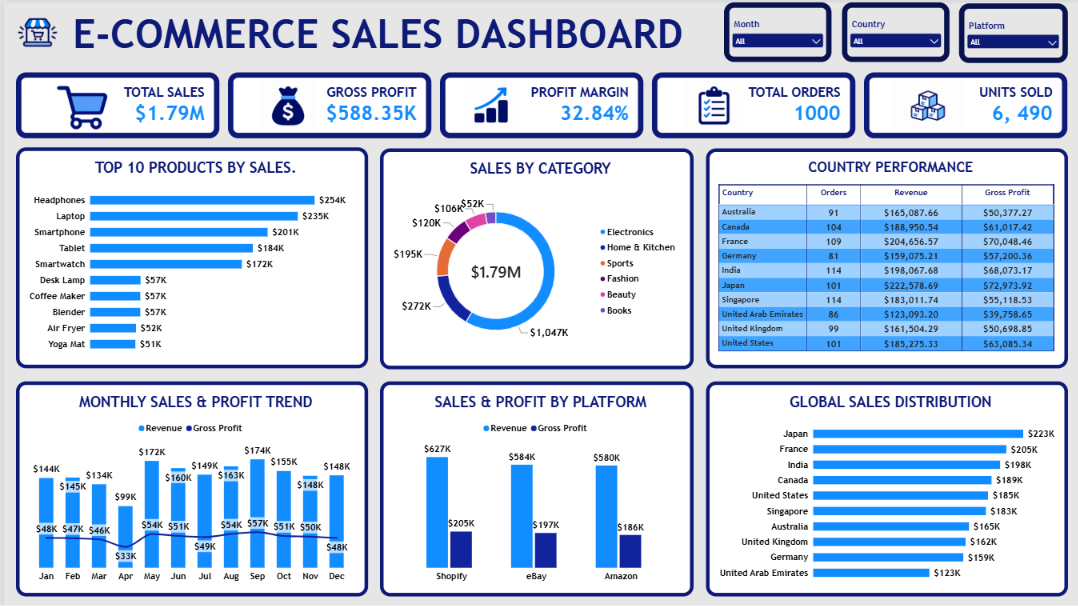

What the dashboard file says about the page in this screenshot:
{"tool":"powerbi","page":{"name":"Dashboard","canvas":[1920,1080],"ordinal":0},"visuals":[{"type":"textbox","box":[0,0,1919.2,105.8],"z":0},{"type":"cardVisual","fields":{"Data":["-Measures.Total Sales"]},"box":[21.2,125,363.5,117.3],"z":1000},{"type":"cardVisual","fields":{"Data":["-Measures.Gross Profit kpi"]},"box":[400,125,363.5,117.3],"z":2000},{"type":"cardVisual","fields":{"Data":["-Measures.Profit Margin %"]},"box":[778.8,125,363.5,117.3],"z":3000},{"type":"cardVisual","fields":{"Data":["-Measures.Units Sold Display"]},"box":[1536.5,125,363.5,117.3],"z":4000},{"type":"cardVisual","fields":{"Data":["-Measures.Total Orders"]},"box":[1157.7,125,363.5,117.3],"z":5000},{"type":"clusteredBarChart","title":"GLOBAL SALES DISTRIBUTION","fields":{"Category":["Ecom_Sales_Data.Customer_Country"],"Y":["Sum(Ecom_Sales_Data.Total Revenue)"]},"box":[1254,676,646,384],"z":6000},{"type":"donutChart","title":"SALES BY CATEGORY","fields":{"Category":["Ecom_Sales_Data.Product_Category"],"Y":["Sum(Ecom_Sales_Data.Total Revenue)"]},"box":[672,260,560,394],"z":7000},{"type":"clusteredColumnChart","title":"SALES & PROFIT BY PLATFORM","fields":{"Category":["Ecom_Sales_Data.Platform"],"Y":["Sum(Ecom_Sales_Data.Total Revenue)","Sum(Ecom_Sales_Data.Gross Profit)"]},"box":[672,676,560,384],"z":8000},{"type":"lineClusteredColumnComboChart","title":"MONTHLY SALES & PROFIT TREND","fields":{"Category":["Calendar.Month"],"Y":["Sum(Ecom_Sales_Data.Total Revenue)"],"Y2":["Sum(Ecom_Sales_Data.Gross Profit)"]},"box":[21.4,676.8,628.6,383.9],"z":9000},{"type":"barChart","title":"TOP 10 PRODUCTS BY SALES.","fields":{"Category":["Ecom_Sales_Data.Product_Name"],"Y":["Sum(Ecom_Sales_Data.Total Revenue)"]},"box":[21.2,259.6,628.8,394.2],"z":10000},{"type":"pivotTable","title":"COUNTRY PERFORMANCE","fields":{"Rows":["Ecom_Sales_Data.Customer_Country"],"Values":["-Measures.Total Orders","Sum(Ecom_Sales_Data.Total Revenue)","Sum(Ecom_Sales_Data.Gross Profit)"]},"box":[1253.6,260.7,646.4,392.9],"z":11000},{"type":"slicer","fields":{"Values":["Calendar.Month"]},"box":[1286,0,192,106],"z":12000},{"type":"slicer","fields":{"Values":["Ecom_Sales_Data.Customer_Country"]},"box":[1496,0,192,106],"z":13000},{"type":"slicer","fields":{"Values":["Ecom_Sales_Data.Platform"]},"box":[1706,2,194,106],"z":14000},{"type":"image","box":[21.2,125.5,237.9,117.3],"z":15000},{"type":"image","box":[398.2,137.5,217.9,93],"z":16000},{"type":"image","box":[778.6,137.5,183.9,92.9],"z":17000},{"type":"image","box":[1157.1,137.5,221.4,92.9],"z":18000},{"type":"image","box":[1537.5,137.5,225,92.9],"z":19000},{"type":"image","box":[0,0,120,106],"z":20000}]}

Visuals, with their boxes in screenshot pixels (x1, y1, x2, y2), scaled from the page's 1920x1080 canvas onto the 1078x606 screenshot:
textbox: region(0, 0, 1077, 59)
cardVisual - -Measures.Total Sales: region(12, 70, 216, 136)
cardVisual - -Measures.Gross Profit kpi: region(225, 70, 429, 136)
cardVisual - -Measures.Profit Margin %: region(437, 70, 641, 136)
cardVisual - -Measures.Units Sold Display: region(863, 70, 1067, 136)
cardVisual - -Measures.Total Orders: region(650, 70, 854, 136)
"GLOBAL SALES DISTRIBUTION" clusteredBarChart: region(704, 379, 1067, 595)
"SALES BY CATEGORY" donutChart: region(377, 146, 692, 367)
"SALES & PROFIT BY PLATFORM" clusteredColumnChart: region(377, 379, 692, 595)
"MONTHLY SALES & PROFIT TREND" lineClusteredColumnComboChart: region(12, 380, 365, 595)
"TOP 10 PRODUCTS BY SALES." barChart: region(12, 146, 365, 367)
"COUNTRY PERFORMANCE" pivotTable: region(704, 146, 1067, 367)
slicer - Calendar.Month: region(722, 0, 830, 59)
slicer - Ecom_Sales_Data.Customer_Country: region(840, 0, 948, 59)
slicer - Ecom_Sales_Data.Platform: region(958, 1, 1067, 61)
image: region(12, 70, 145, 136)
image: region(224, 77, 346, 129)
image: region(437, 77, 540, 129)
image: region(650, 77, 774, 129)
image: region(863, 77, 990, 129)
image: region(0, 0, 67, 59)
